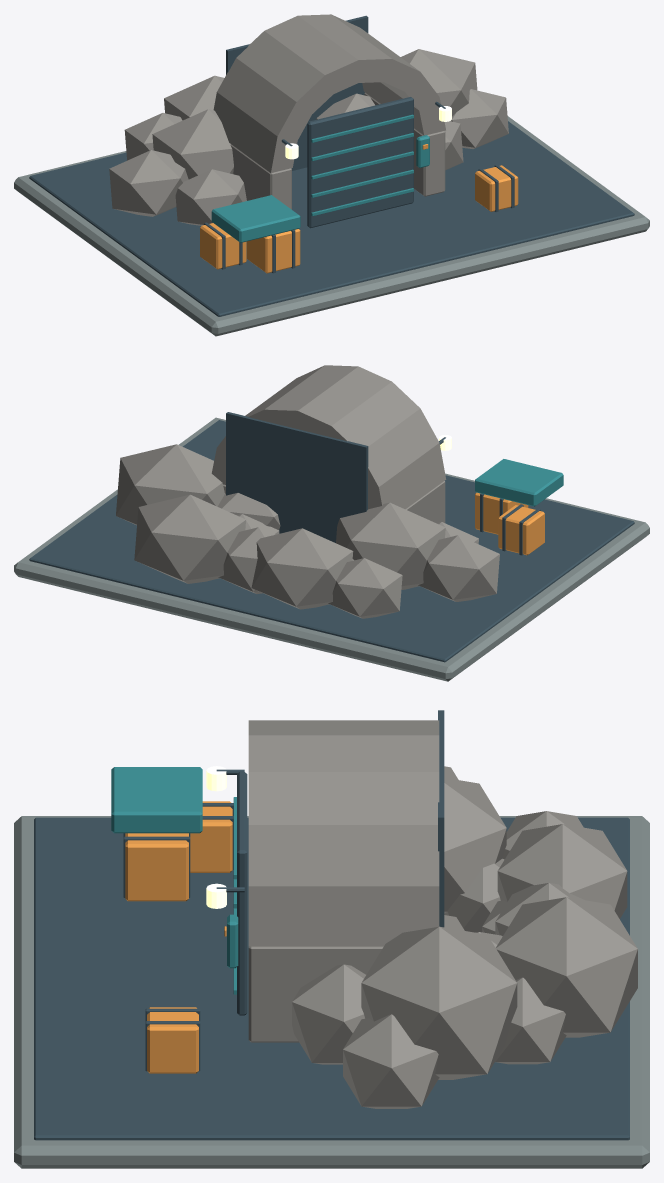
The model's file is smuggler.glb.
3 renders of one model, top to bottom at view 1: azimuth 30°, elevation 25°; view 2: azimuth 150°, elevation 25°; view 3: azimuth 270°, elevation 25°, orthographic. The views are drawn at different scales.
Parts seen in each view (by area): view 1: smuggler; view 2: smuggler; view 3: smuggler.
Part boxes in pixels (<box>): smuggler: <box>14,14,649,336</box>; smuggler: <box>14,365,649,681</box>; smuggler: <box>14,710,649,1168</box>.
Bounding box in the file's own units: 10 × 3.73 × 8.
